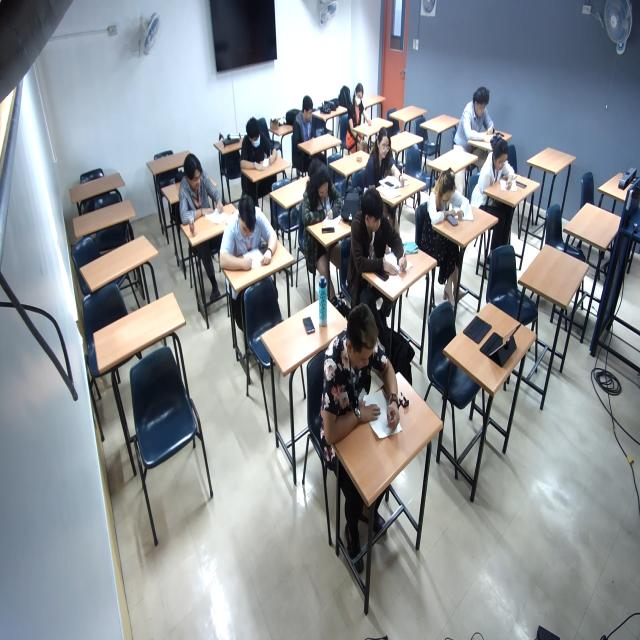read: (330, 315, 406, 452), (355, 199, 408, 281), (223, 206, 279, 277), (177, 158, 226, 235), (426, 170, 476, 236), (476, 136, 527, 200), (301, 171, 347, 229), (463, 91, 506, 150), (366, 137, 408, 193), (239, 121, 281, 171)
